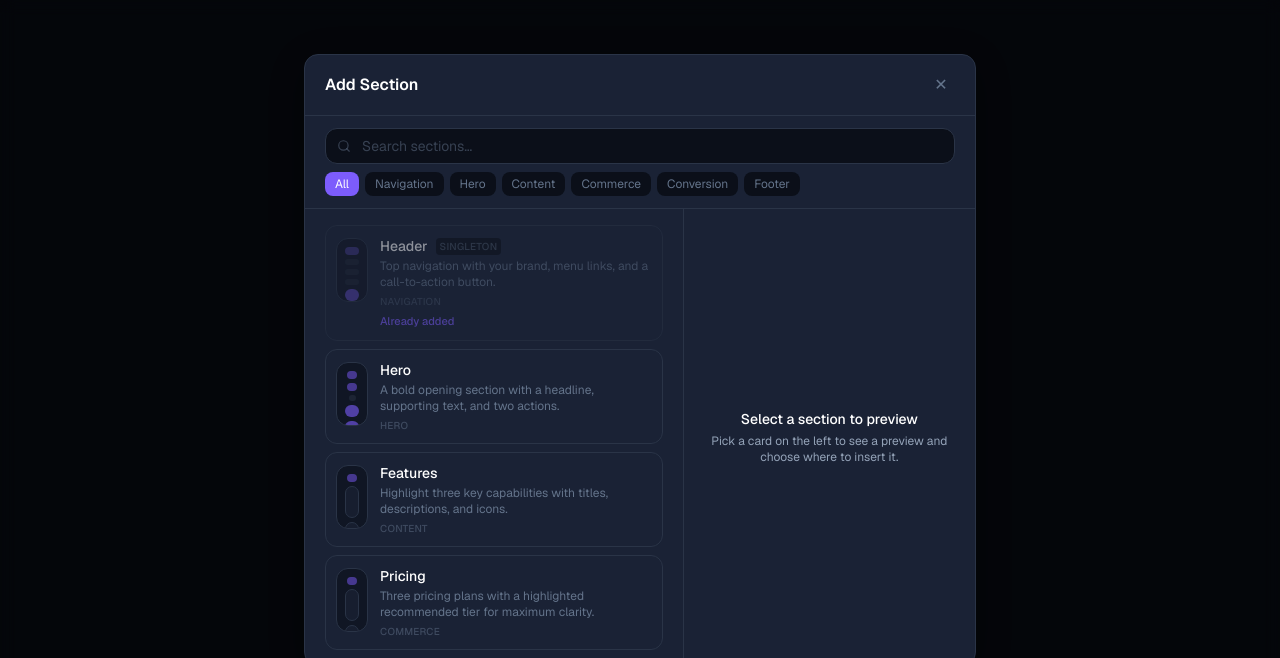
Scenario: AddSectionDialog search and filter › filters by category
Click the button "Conversion" at (698, 184), box [657, 172, 738, 196]
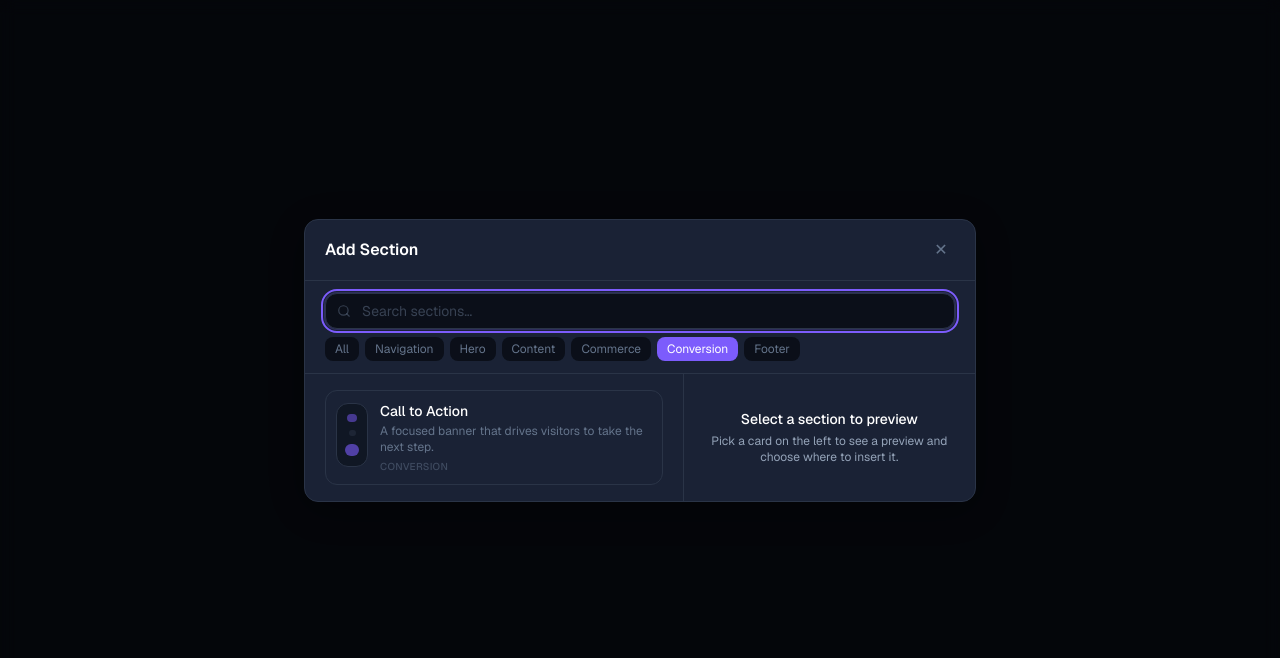
Now the button with test id "section-card-cta" is shown, box [325, 390, 663, 484]
Now the button with test id "section-card-hero" is gone
